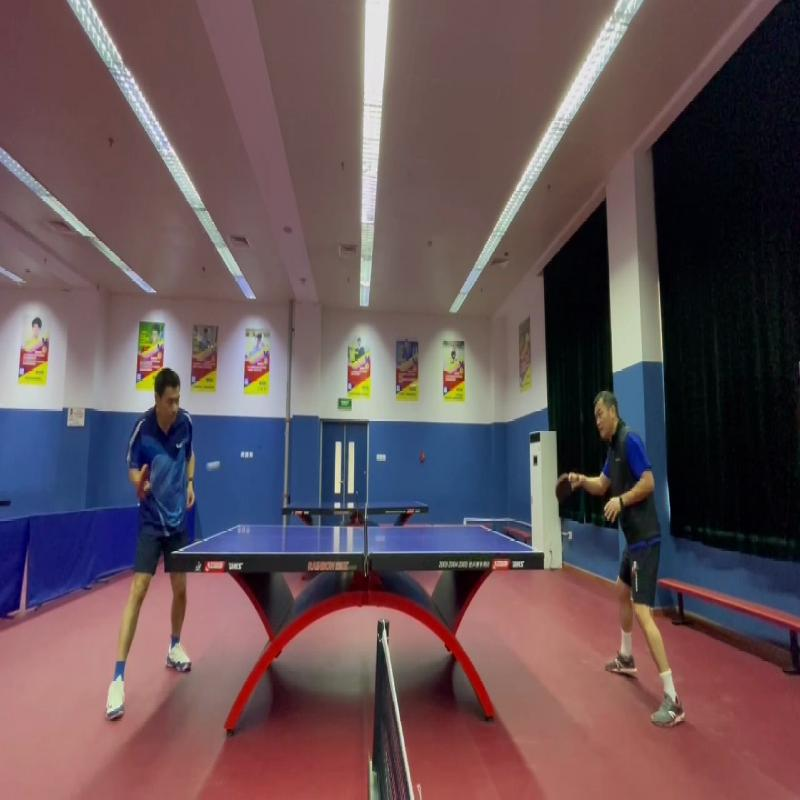bats: (132, 454, 159, 496)
